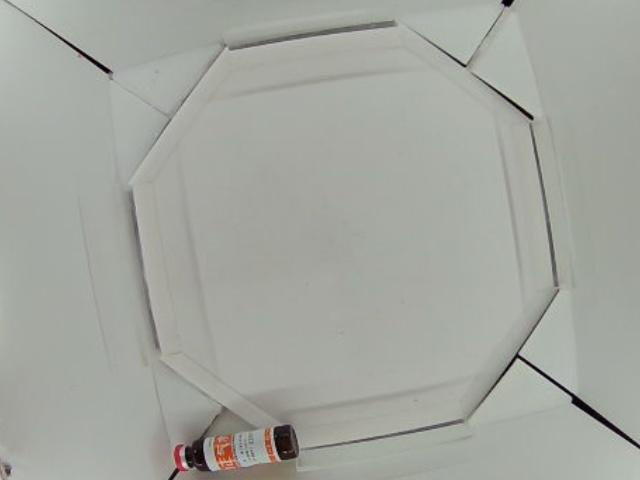Medicine: (172, 420, 298, 474)
